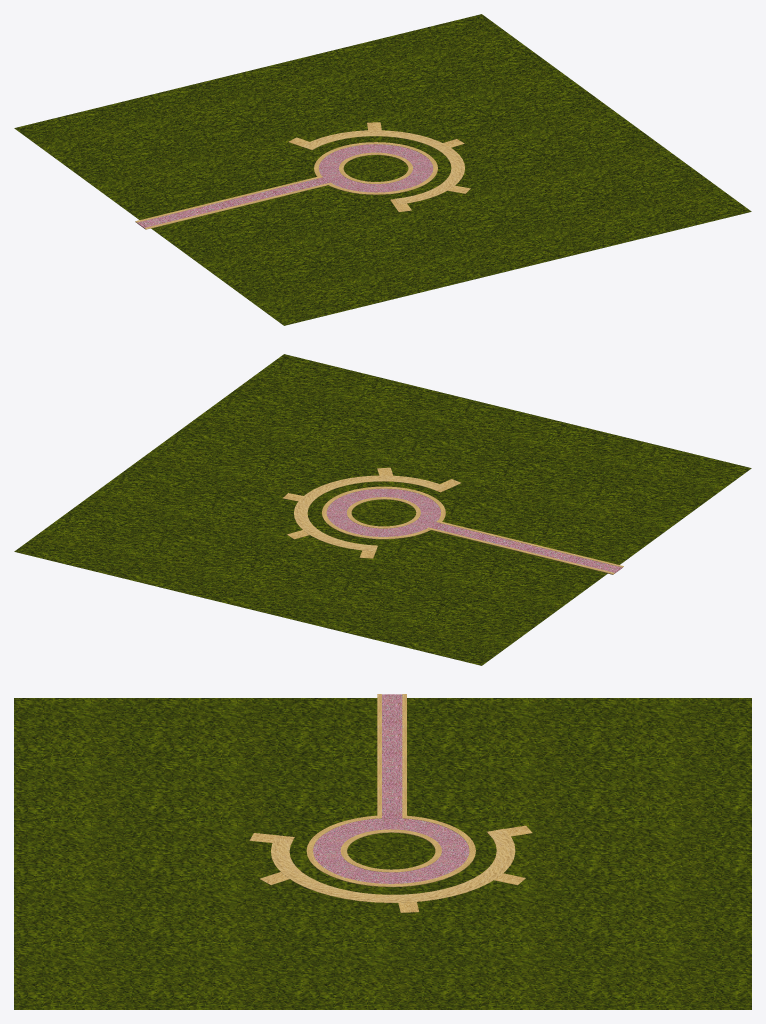
File: ground.obj
3 views of the same model, one above another, from view 1: azimuth 30°, elevation 25°; view 2: azimuth 150°, elevation 25°; view 3: azimuth 270°, elevation 25° (orthographic). The views are drawn at different scales.
Visible parts, largest first — view 1: Plane, Road.001, Road, Cube; view 2: Plane, Road.001, Road, Cube; view 3: Plane, Road.001, Road, Cube.
Boxes of the visible parts, box(x1,y1,x2,y2) form: Plane: box(14, 14, 751, 325); Road.001: box(314, 142, 437, 194); Road: box(135, 176, 332, 229); Cube: box(301, 130, 464, 204); Plane: box(14, 354, 751, 665); Road.001: box(322, 486, 445, 539); Road: box(427, 520, 623, 574); Cube: box(294, 475, 445, 551); Plane: box(14, 698, 751, 1009); Road.001: box(306, 815, 475, 887); Road: box(377, 694, 406, 818); Cube: box(271, 828, 515, 902).
Bounding box in the file's own units: 35.61 × 0.095 × 35.24.
Materials: 13 (13 with a texture image).
